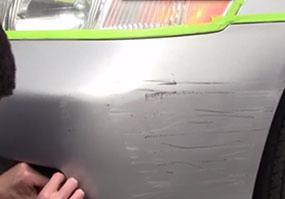front-bumper-dent: (4, 38, 284, 198)
